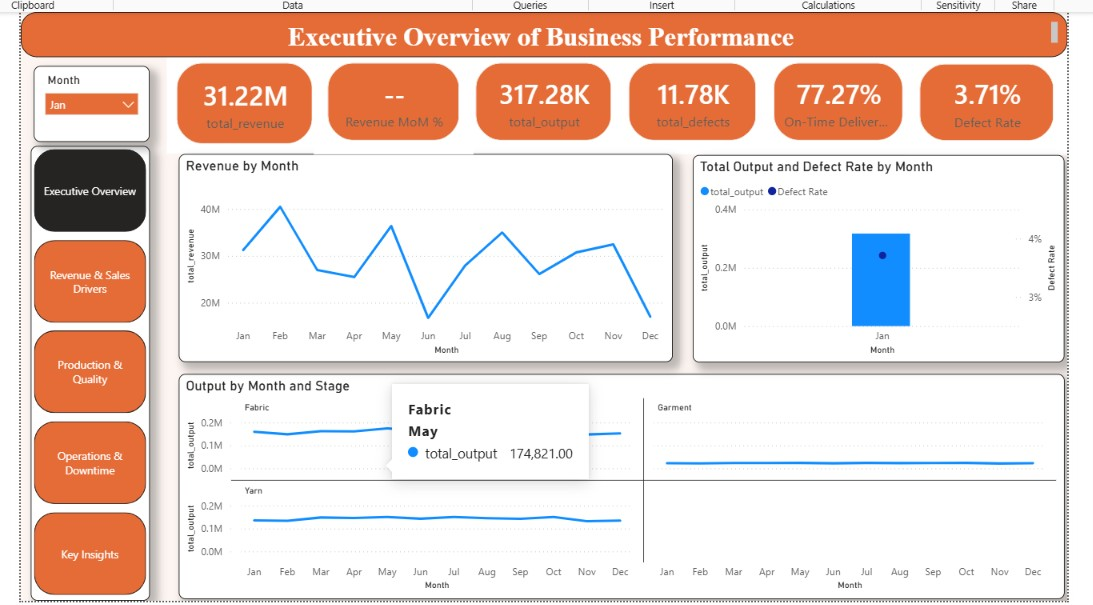

This screenshot's page, from the dashboard's own definition file:
{"tool":"powerbi","page":{"name":"Executive Overview","canvas":[1280,720],"ordinal":0},"visuals":[{"type":"cardVisual","fields":{"Data":["measure.total_revenue"]},"box":[173.1,45.3,200.6,133.2],"z":0},{"type":"cardVisual","fields":{"Data":["measure.On-Time Delivery %"]},"box":[903.9,45.3,192.3,129.1],"z":1000},{"type":"cardVisual","fields":{"Data":["measure.total_defects"]},"box":[726.7,45.3,190.9,129.1],"z":2000},{"type":"cardVisual","fields":{"Data":["measure.total_output"]},"box":[539.9,45.3,200.6,129.1],"z":3000},{"type":"cardVisual","fields":{"Data":["measure.defect_rate"]},"box":[1081.8,46.8,198.7,128.6],"z":4000},{"type":"lineChart","title":"Output by Month and Stage","fields":{"Category":["Date.Month"],"Y":["measure.total_output"],"Rows":["Dim_Products.Stage"]},"box":[193.2,442.7,1083.4,275.1],"z":5000},{"type":"pageNavigator","box":[12.2,163.9,145.5,556.4],"z":6000},{"type":"lineChart","title":"Revenue by Month","fields":{"Category":["Date.Month"],"Y":["measure.total_revenue"]},"box":[193.5,174,603.9,254.5],"z":7000},{"type":"cardVisual","fields":{"Data":["measure.Revenue MoM %"]},"box":[358.5,45.3,195.1,129.1],"z":8000},{"type":"lineStackedColumnComboChart","title":"Total Output and Defect Rate by Month","fields":{"Category":["Date.Month"],"Y":["measure.total_output"],"Y2":["measure.defect_rate"]},"box":[822.1,175.3,454.5,253.2],"z":9000},{"type":"textbox","box":[0,0,1280.3,54.9],"z":11000},{"type":"slicer","fields":{"Values":["Date.Month"]},"box":[15.9,66,141.8,92.9],"z":11001}]}

Visuals, with their boxes on the page's 1280x720 design canvas (x1, y1, x2, y2). These are canvas units, not pixel positions in the 1093x605 screenshot, which may show the page scaled, cropped or inside an application window:
cardVisual - measure.total_revenue: region(173, 45, 374, 178)
cardVisual - measure.On-Time Delivery %: region(904, 45, 1096, 174)
cardVisual - measure.total_defects: region(727, 45, 918, 174)
cardVisual - measure.total_output: region(540, 45, 740, 174)
cardVisual - measure.defect_rate: region(1082, 47, 1280, 175)
"Output by Month and Stage" lineChart: region(193, 443, 1277, 718)
pageNavigator: region(12, 164, 158, 720)
"Revenue by Month" lineChart: region(194, 174, 797, 428)
cardVisual - measure.Revenue MoM %: region(358, 45, 554, 174)
"Total Output and Defect Rate by Month" lineStackedColumnComboChart: region(822, 175, 1277, 428)
textbox: region(0, 0, 1280, 55)
slicer - Date.Month: region(16, 66, 158, 159)
